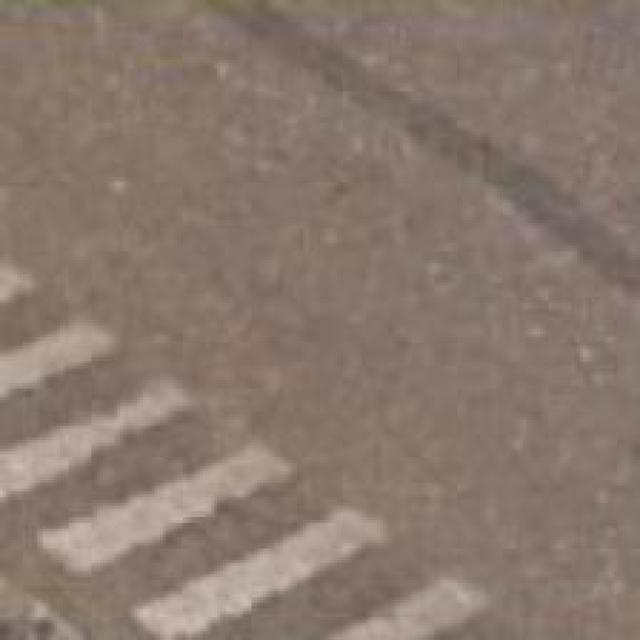walk-crossing: (3, 260, 568, 640)
